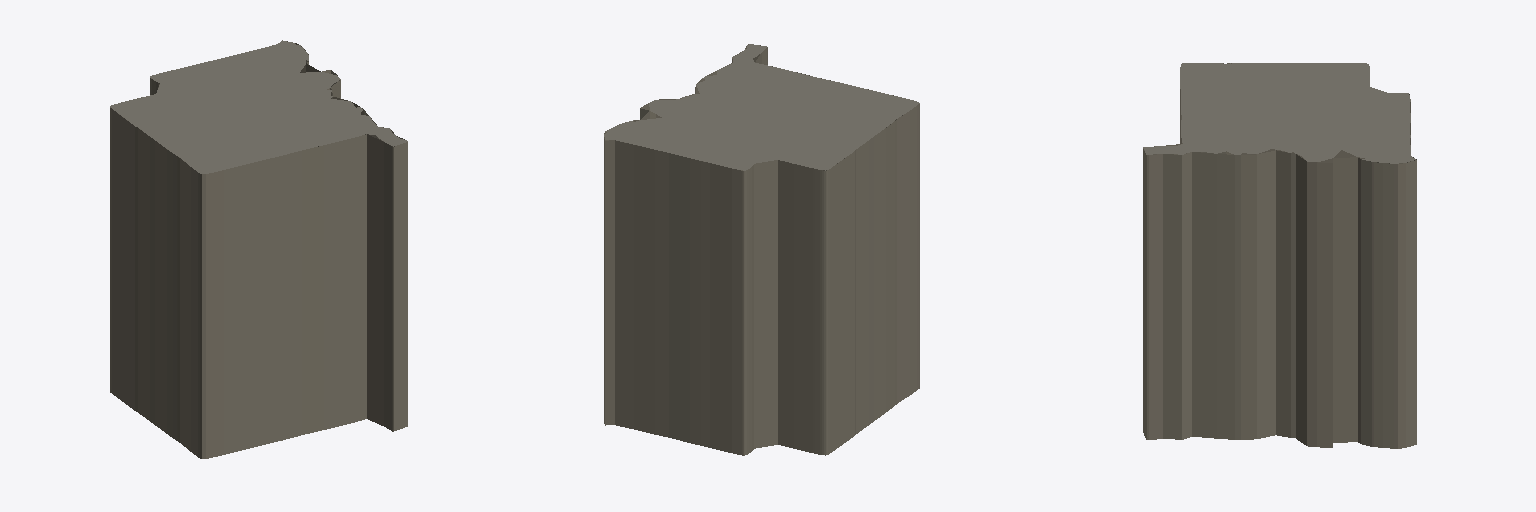
3 renders of one model, left to right at view 1: azimuth 30°, elevation 25°; view 2: azimuth 150°, elevation 25°; view 3: azimuth 270°, elevation 25°, orthographic.
Visible parts, largest first — view 1: result; view 2: result; view 3: result.
Part boxes in pixels (bbox=[...]): result: bbox=[110, 40, 407, 458]; result: bbox=[604, 44, 919, 455]; result: bbox=[1143, 63, 1416, 448].
Size of the model in its own units: 187 by 245 by 214.
3 materials, 3 textured.